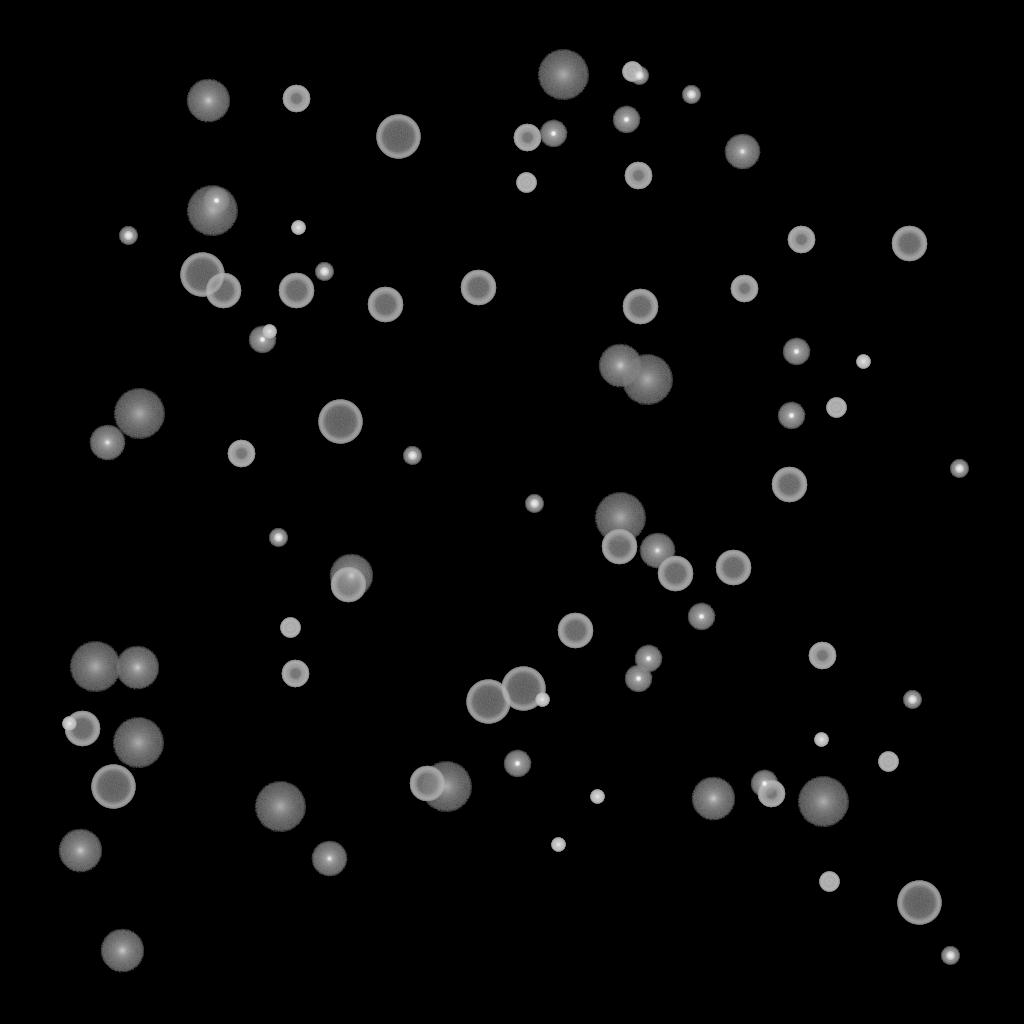depth:-10: (624, 665, 652, 693), (503, 750, 531, 778), (687, 603, 715, 631), (248, 326, 276, 354), (782, 338, 810, 366), (777, 402, 805, 430), (750, 770, 778, 798), (612, 106, 640, 134), (539, 120, 567, 148), (634, 645, 662, 673), (202, 187, 230, 215)
depth:-20: (903, 691, 921, 709), (315, 263, 333, 281), (269, 529, 287, 547), (525, 495, 543, 513), (403, 447, 421, 465), (682, 86, 700, 104), (630, 67, 648, 85), (119, 227, 137, 245), (941, 947, 959, 965), (950, 460, 968, 478)
depth:-30: (814, 733, 828, 747), (291, 221, 305, 235), (62, 717, 76, 731), (262, 325, 276, 339), (551, 838, 565, 852), (590, 790, 604, 804), (535, 693, 549, 707), (856, 355, 870, 369)
depth:-40: (819, 872, 839, 892), (280, 618, 300, 638), (622, 62, 642, 82), (516, 173, 536, 193), (826, 398, 846, 418), (878, 752, 898, 772)
depth:-50: (808, 642, 836, 670), (513, 124, 541, 152), (757, 780, 785, 808), (787, 226, 815, 254), (730, 275, 758, 303), (227, 440, 255, 468), (282, 85, 310, 113), (624, 162, 652, 190), (281, 660, 309, 688)
depth:-60: (409, 766, 445, 802), (622, 289, 658, 325), (205, 273, 241, 309), (657, 556, 693, 592), (330, 567, 366, 603), (601, 529, 637, 565), (771, 467, 807, 503), (557, 613, 593, 649), (278, 273, 314, 309), (64, 711, 100, 747), (891, 226, 927, 262), (367, 287, 403, 323), (715, 550, 751, 586), (460, 270, 496, 306)
depth:-70: (180, 253, 224, 297), (501, 667, 545, 711), (376, 115, 420, 159), (318, 400, 362, 444), (897, 881, 941, 925), (466, 680, 510, 724), (91, 765, 135, 809)
depth:0: (639, 533, 675, 569), (89, 425, 125, 461), (311, 841, 347, 877), (724, 134, 760, 170)
depth:10: (186, 79, 230, 123), (58, 829, 102, 873), (100, 929, 144, 973), (329, 554, 373, 598), (115, 646, 159, 690), (598, 344, 642, 388), (691, 777, 735, 821)
depth:20: (420, 762, 472, 812), (797, 777, 849, 827), (113, 389, 165, 439), (254, 782, 306, 832), (186, 186, 238, 236), (537, 50, 589, 100), (69, 642, 121, 692), (112, 718, 164, 768), (621, 355, 673, 405), (594, 493, 646, 543)
